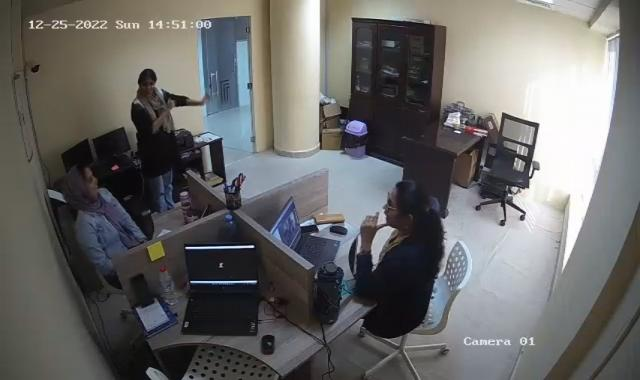no_hairnet: (387, 182, 426, 229), (63, 164, 94, 202), (139, 68, 157, 97)
